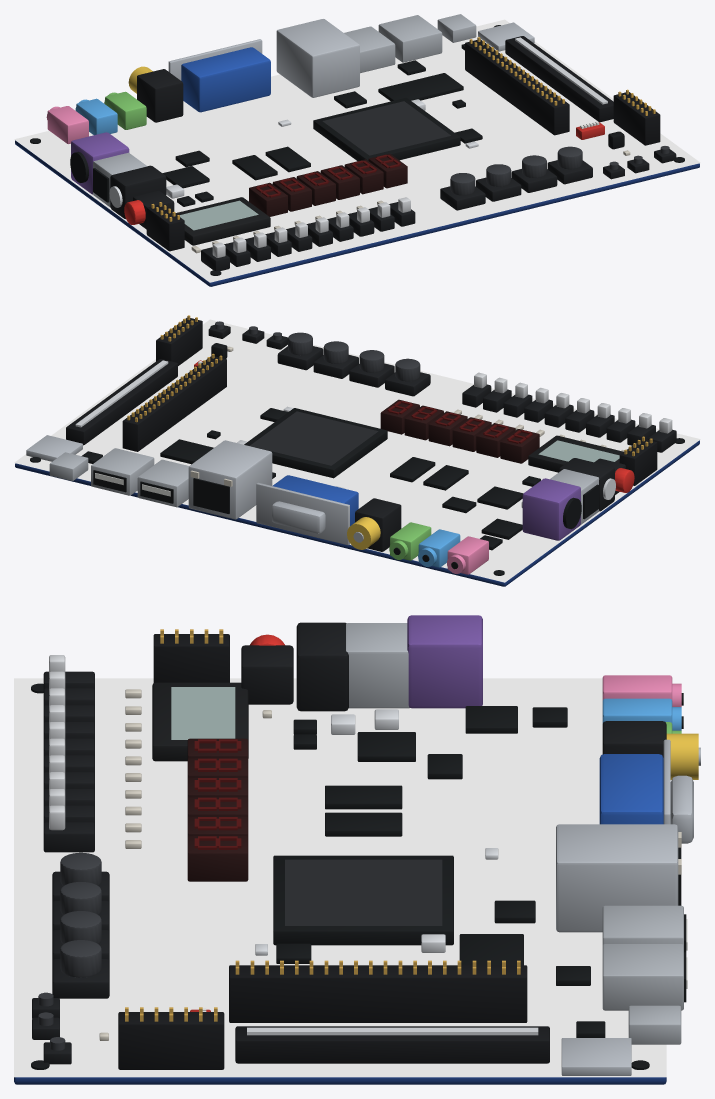
3 views of the same model, one above another, from view 1: azimuth 30°, elevation 25°; view 2: azimuth 150°, elevation 25°; view 3: azimuth 270°, elevation 25° (orthographic). The views are drawn at different scales.
Parts seen in each view (by area): view 1: FsmSilk, FsmEthernet, FsmVga, FsmGpio, FsmFpgaMark, FsmBoard, FsmHsmc, FsmFpga, FsmUsb1, FsmVideoIn, FsmLcdFrame, FsmLtc (+37 smaller); view 2: FsmSilk, FsmEthernet, FsmGpio, FsmFpgaMark, FsmVgaShell, FsmHsmc, FsmPs2, FsmBoard, FsmFpga, FsmUsb1, FsmUsb0, FsmLtc (+45 smaller); view 3: FsmSilk, FsmGpio, FsmEthernet, FsmFpgaMark, FsmHsmc, FsmPs2, FsmLtc, FsmFpga, FsmUsb1, FsmUsbBlaster, FsmBoard, FsmPowerJack (+36 smaller).
Part boxes in pixels (bbox=[...]): FsmSilk: bbox=[14, 19, 700, 282]; FsmEthernet: bbox=[276, 19, 359, 97]; FsmVga: bbox=[181, 47, 270, 112]; FsmGpio: bbox=[465, 39, 569, 135]; FsmFpgaMark: bbox=[322, 101, 450, 155]; FsmBoard: bbox=[15, 140, 699, 286]; FsmHsmc: bbox=[505, 36, 613, 122]; FsmFpga: bbox=[313, 97, 460, 161]; FsmUsb1: bbox=[378, 15, 442, 62]; FsmVideoIn: bbox=[137, 69, 183, 122]; FsmLcdFrame: bbox=[175, 197, 270, 245]; FsmLtc: bbox=[613, 92, 660, 145]; FsmSilk: bbox=[14, 319, 700, 582]; FsmEthernet: bbox=[188, 440, 272, 519]; FsmGpio: bbox=[122, 356, 226, 451]; FsmFpgaMark: bbox=[250, 411, 378, 465]; FsmVgaShell: bbox=[256, 482, 349, 545]; FsmHsmc: bbox=[66, 359, 177, 445]; FsmPs2: bbox=[522, 478, 580, 540]; FsmBoard: bbox=[15, 440, 699, 586]; FsmFpga: bbox=[244, 408, 387, 478]; FsmUsb1: bbox=[91, 448, 154, 495]; FsmUsb0: bbox=[137, 459, 188, 507]; FsmLtc: bbox=[156, 318, 202, 365]; FsmSilk: bbox=[14, 678, 666, 1077]; FsmGpio: bbox=[229, 965, 527, 1022]; FsmEthernet: bbox=[556, 824, 678, 932]; FsmFpgaMark: bbox=[285, 859, 442, 925]; FsmHsmc: bbox=[235, 1026, 549, 1063]; FsmPs2: bbox=[407, 615, 482, 708]; FsmLtc: bbox=[118, 1012, 224, 1069]; FsmFpga: bbox=[273, 855, 453, 945]; FsmUsb1: bbox=[602, 944, 683, 1010]; FsmUsbBlaster: bbox=[346, 623, 409, 708]; FsmBoard: bbox=[14, 1077, 666, 1084]; FsmPowerJack: bbox=[296, 622, 348, 711].
Bounding box in the file's own units: 0.1635 × 0.0151 × 0.1179.
